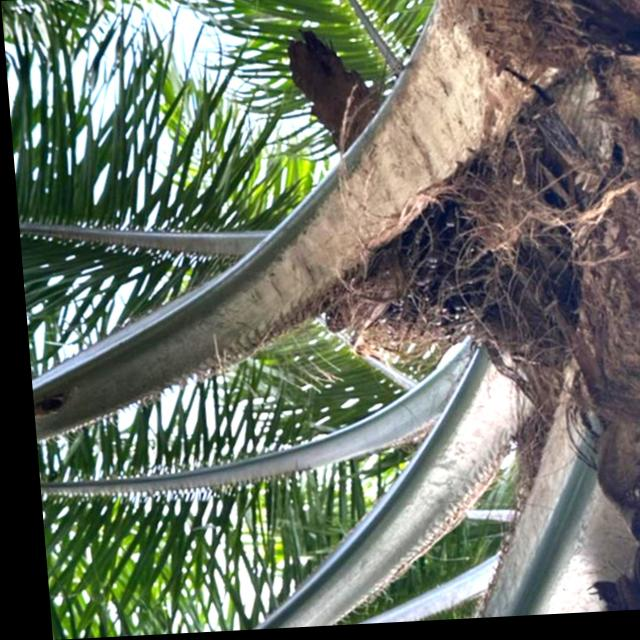unripe: (302, 148, 549, 375)
